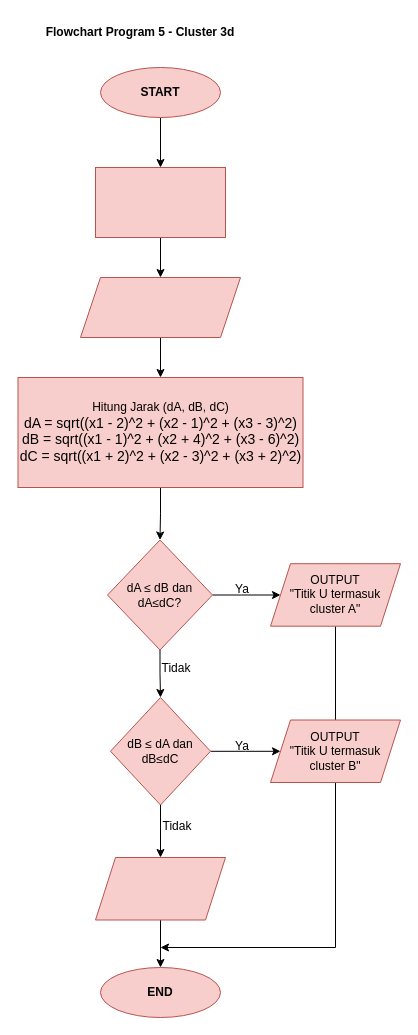
Some shapes in this 418 by 1035 pixel diagram are drawn without their labels. The shapes that lost their labels are listed below. From the top down, each one's centre as x and y in pixels, then its label:
(160,202): Pusat Cluster: A = (2, 1, 3) B = (1, -4, 6) C = (-2, 3, -2)
(160,307): Input koordinat titik U (x1, x2, x3)
(160,888): OUTPUT "Titik U termasuk cluster C"
